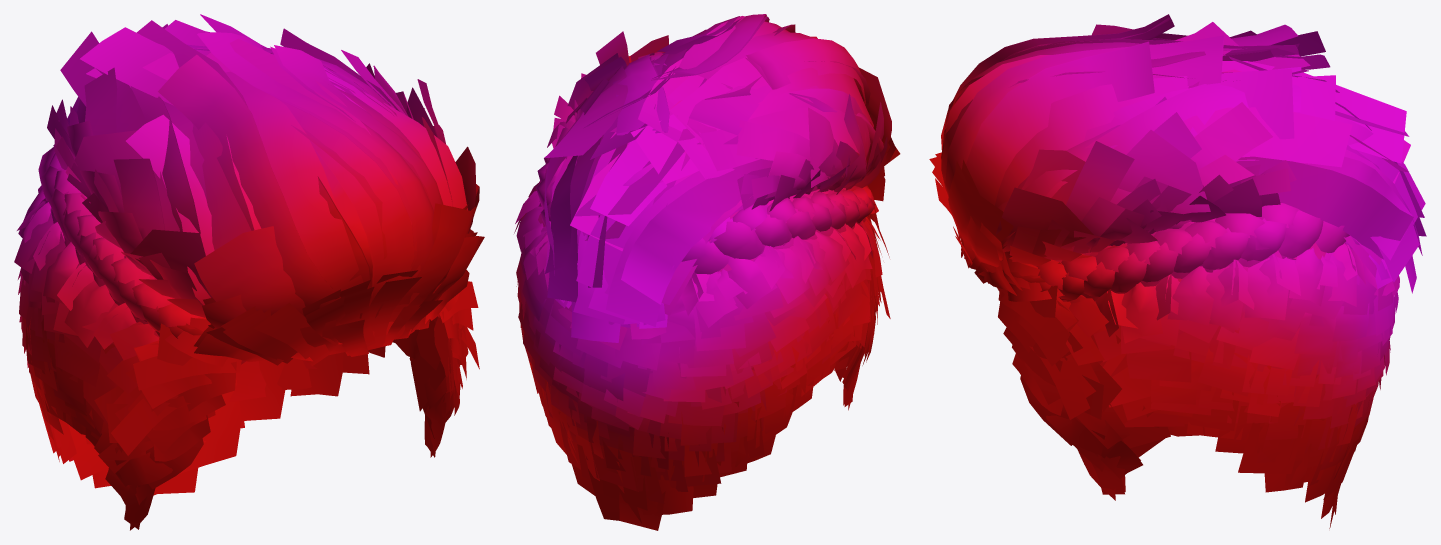
3 views of the same model, side by side, from view 1: azimuth 30°, elevation 25°; view 2: azimuth 150°, elevation 25°; view 3: azimuth 270°, elevation 25° (orthographic). The views are drawn at different scales.
Visible parts, largest first — view 1: hair07; view 2: hair07; view 3: hair07.
Part boxes in pixels (bbox=[...]): hair07: bbox=[14, 14, 484, 530]; hair07: bbox=[514, 14, 900, 530]; hair07: bbox=[929, 14, 1426, 528].
Size of the model in its own units: 15.61 by 20.75 by 19.49.
